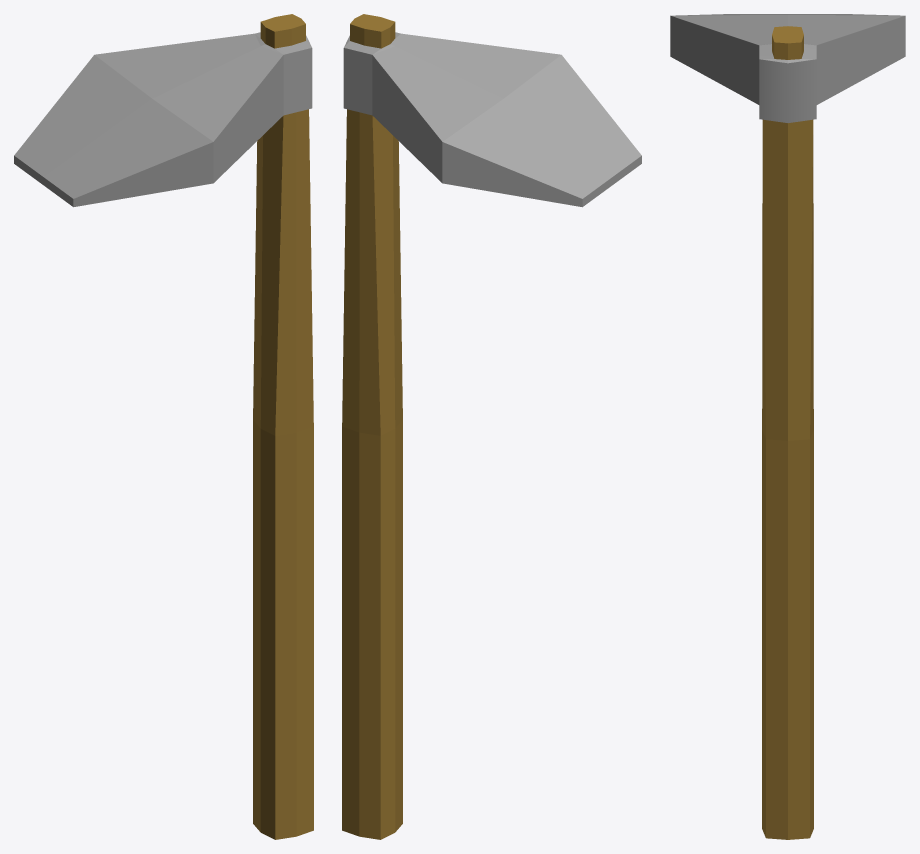
File: hoe.fbx
3 renders of one model, left to right at view 1: azimuth 30°, elevation 25°; view 2: azimuth 150°, elevation 25°; view 3: azimuth 270°, elevation 25°, orthographic.
Visible parts, largest first — view 1: Pick; view 2: Pick; view 3: Pick.
Boxes of the visible parts, left/top/right/bottom form: Pick: left=14, top=14, right=313, bottom=839; Pick: left=342, top=14, right=641, bottom=839; Pick: left=670, top=14, right=905, bottom=839.
Bounding box in the file's own units: 33.98 × 99.53 × 26.73.
